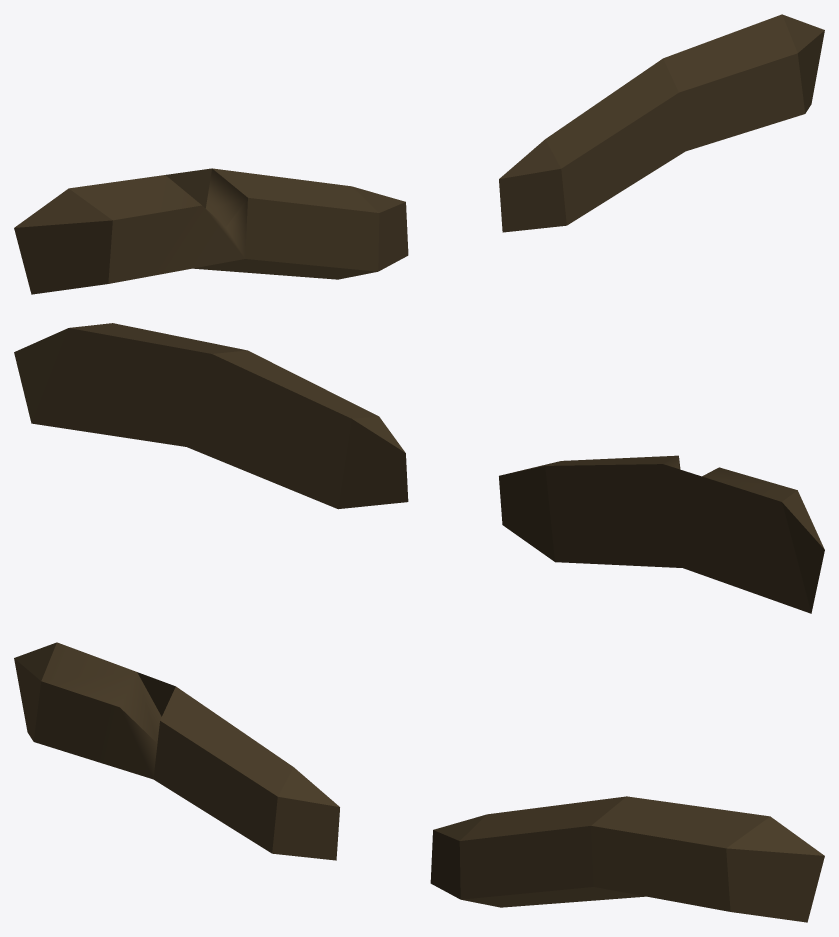
Rendered from Chr_Eyebrow_Female_03_Static.fbx.
3 views of the same model, one above another, from view 1: azimuth 30°, elevation 25°; view 2: azimuth 150°, elevation 25°; view 3: azimuth 330°, elevation 25° (orthographic).
Visible parts, largest first — view 1: Chr_Eyebrow_Female_03_Static; view 2: Chr_Eyebrow_Female_03_Static; view 3: Chr_Eyebrow_Female_03_Static.
Part boxes in pixels (x1,y1,x2,y2): Chr_Eyebrow_Female_03_Static: [14, 14, 824, 294]; Chr_Eyebrow_Female_03_Static: [14, 323, 824, 613]; Chr_Eyebrow_Female_03_Static: [14, 642, 824, 922].
Bounding box in the file's own units: 0.1722 × 0.0276 × 0.0195.
